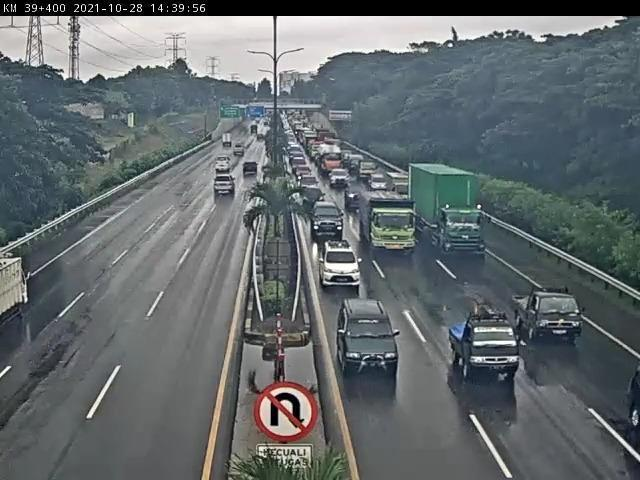truck: (449, 303, 526, 395)
